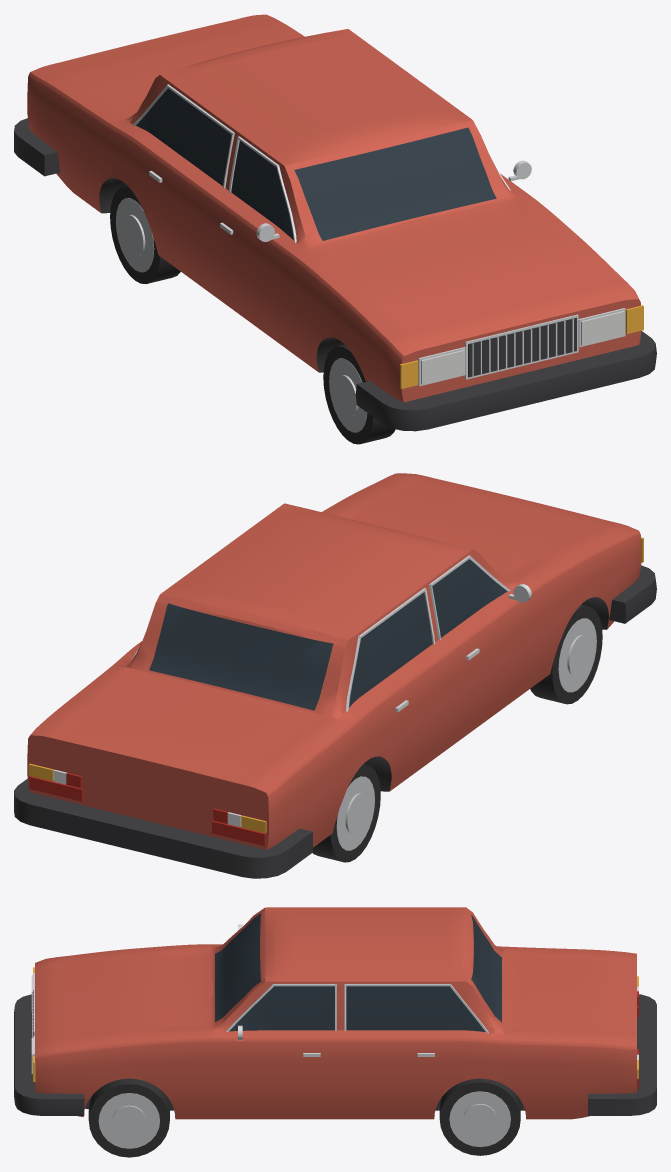
File: volvo240.glb
3 views of the same model, one above another, from view 1: azimuth 30°, elevation 25°; view 2: azimuth 150°, elevation 25°; view 3: azimuth 270°, elevation 25° (orthographic). The views are drawn at different scales.
Parts seen in each view (by area): view 1: paint, glass, trim, wheel_rr, wheel_fr, headlights, mirrors; view 2: paint, glass, trim, wheel_fr, wheel_rr, taillights; view 3: paint, glass, trim, wheel_fl, wheel_rl.
Boxes of the visible parts, x1,y1,x2,y2 form: paint: (27,14,641,402); glass: (136,88,496,240); trim: (14,84,656,431); wheel_rr: (110,185,180,283); wheel_fr: (323,344,395,444); headlights: (421,311,624,384); mirrors: (256,160,531,241); paint: (27,473,641,849); glass: (149,559,507,710); trim: (14,555,656,878); wheel_fr: (530,604,602,704); wheel_rr: (312,764,380,862); taillights: (29,773,265,846); paint: (35,907,636,1119); glass: (215,913,501,1031); trim: (14,973,656,1115); wheel_fl: (88,1078,169,1157); wheel_rl: (439,1078,520,1155).
Size of the model in its own units: 1.91 by 1.43 by 4.84.
